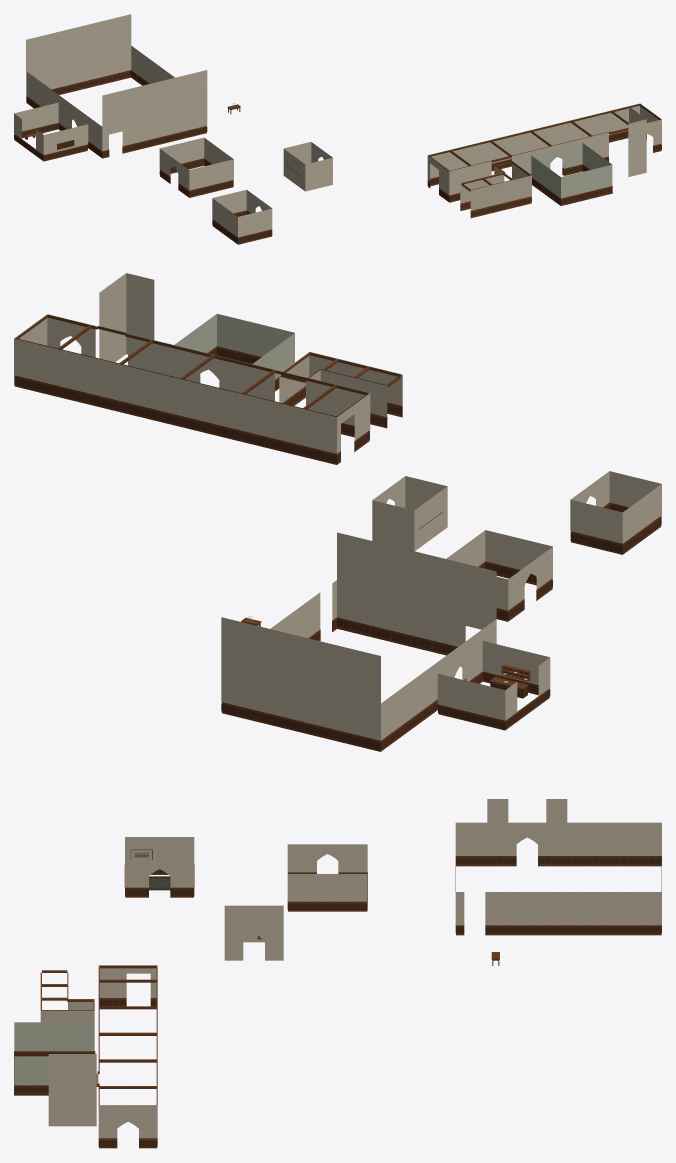
File: first_court_interiors.glb
The picture shows the model from 3 angles, top to bottom: view 1: azimuth 30°, elevation 25°; view 2: azimuth 150°, elevation 25°; view 3: azimuth 270°, elevation 25°; orthographic projection. The views are drawn at different scales.
Visible parts, largest first — view 1: Limewash, Range limewash, Limewash.004, Limewash.002, Limewash.001, Limewash.003, Passage limewash, Service limewash, Range mouldings and ceiling, Stairwell limewash, Recessed panels, Oak mouldings (+10 smaller); view 2: Limewash, Range limewash, Limewash.001, Limewash.003, Service limewash, Range mouldings and ceiling, Limewash.002, Stairwell limewash, Limewash.004, Passage limewash, Range panels, Recessed panels (+5 smaller); view 3: Limewash, Limewash.002, Stairwell limewash, Limewash.004, Limewash.003, Service limewash, Range limewash, Recessed panels, Range mouldings and ceiling, Oak mouldings, Limewash.001, Passage limewash (+3 smaller).
Boxes of the visible parts, bbox=[...] form: Limewash: bbox=[26, 14, 207, 151]; Range limewash: bbox=[427, 103, 661, 195]; Limewash.004: bbox=[531, 143, 612, 198]; Limewash.002: bbox=[159, 137, 233, 190]; Limewash.001: bbox=[14, 102, 88, 154]; Limewash.003: bbox=[212, 189, 272, 237]; Passage limewash: bbox=[460, 161, 531, 210]; Service limewash: bbox=[283, 142, 332, 191]; Range mouldings and ceiling: bbox=[427, 104, 661, 202]; Stairwell limewash: bbox=[628, 106, 646, 176]; Recessed panels: bbox=[26, 71, 207, 157]; Oak mouldings: bbox=[26, 70, 206, 158]; Limewash: bbox=[221, 532, 496, 740]; Range limewash: bbox=[14, 314, 370, 453]; Limewash.001: bbox=[437, 641, 550, 720]; Limewash.003: bbox=[570, 471, 661, 543]; Service limewash: bbox=[372, 476, 447, 551]; Range mouldings and ceiling: bbox=[14, 315, 369, 464]; Limewash.002: bbox=[446, 530, 552, 610]; Stairwell limewash: bbox=[99, 273, 154, 362]; Limewash.004: bbox=[174, 314, 294, 382]; Passage limewash: bbox=[279, 352, 402, 416]; Range panels: bbox=[14, 377, 369, 462]; Recessed panels: bbox=[221, 619, 455, 749]; Limewash: bbox=[455, 822, 661, 925]; Limewash.002: bbox=[287, 844, 367, 901]; Stairwell limewash: bbox=[48, 1054, 96, 1126]; Limewash.004: bbox=[14, 1022, 94, 1085]; Limewash.003: bbox=[125, 837, 194, 887]; Service limewash: bbox=[224, 905, 283, 960]; Range limewash: bbox=[98, 965, 157, 1138]; Recessed panels: bbox=[455, 858, 661, 933]; Range mouldings and ceiling: bbox=[96, 965, 157, 1148]; Oak mouldings: bbox=[455, 856, 661, 935]; Limewash.001: bbox=[487, 799, 567, 822]; Passage limewash: bbox=[40, 999, 94, 1022].
Bounding box in the file's own units: 71.01 × 9 × 61.69.
Materials: 15 (10 with a texture image).
